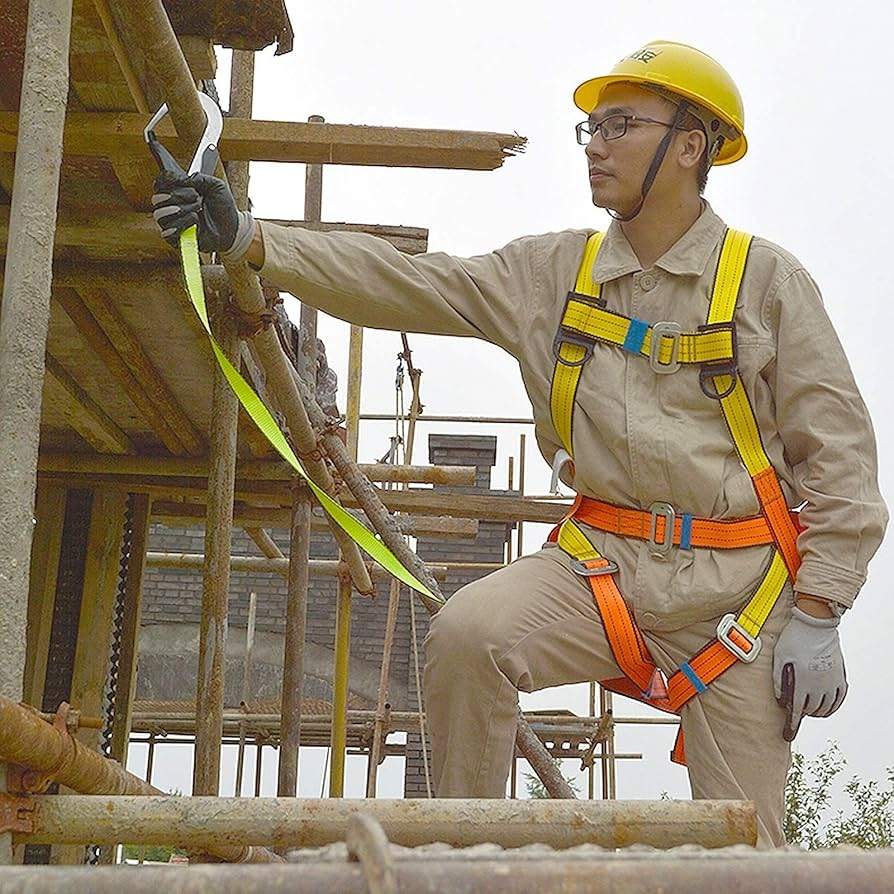Helmet: (570, 33, 751, 134)
No_goggles: (571, 105, 682, 146)
Person: (401, 22, 848, 804)
Safety_Harness: (539, 232, 804, 706)
